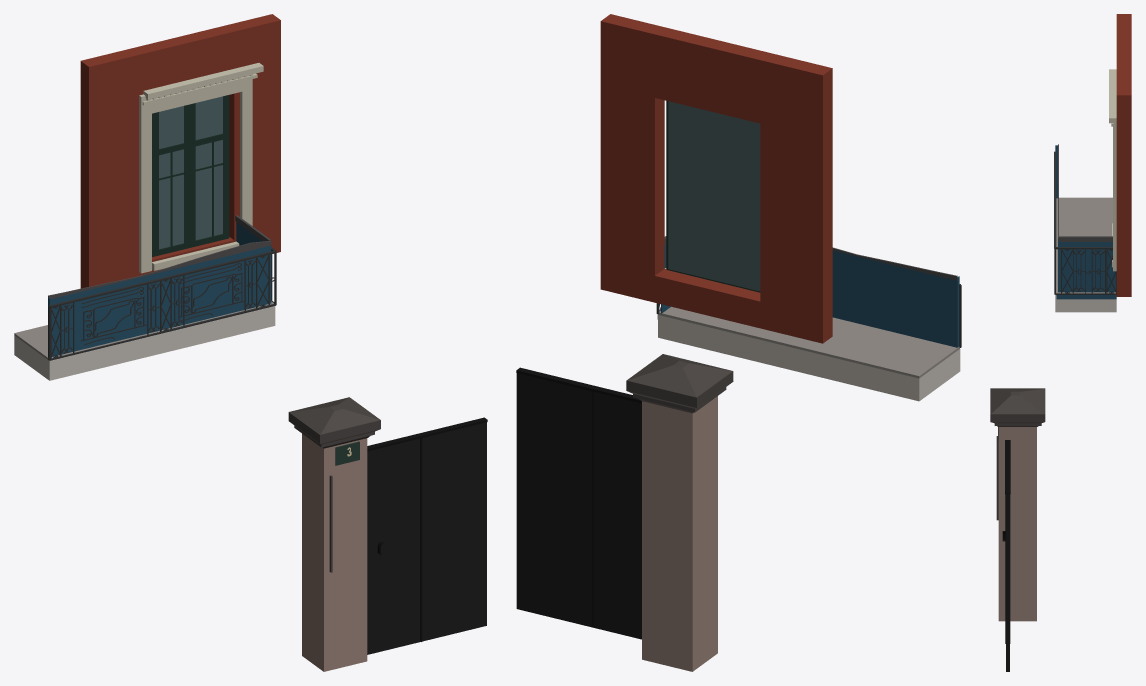
The model's file is lod-source.glb.
3 renders of one model, left to right at view 1: azimuth 30°, elevation 25°; view 2: azimuth 150°, elevation 25°; view 3: azimuth 270°, elevation 25°, orthographic. The views are drawn at different scales.
Parts seen in each view (by area): view 1: 大福里延庆路29弄3号院门与露台; view 2: 大福里延庆路29弄3号院门与露台; view 3: 大福里延庆路29弄3号院门与露台.
Boxes of the visible parts, x1=… form: 大福里延庆路29弄3号院门与露台: x1=14, y1=14, x2=487, y2=671; 大福里延庆路29弄3号院门与露台: x1=516, y1=14, x2=961, y2=671; 大福里延庆路29弄3号院门与露台: x1=990, y1=14, x2=1131, y2=671.
Bounding box in the file's own units: 4.74 × 6.58 × 1.62.
